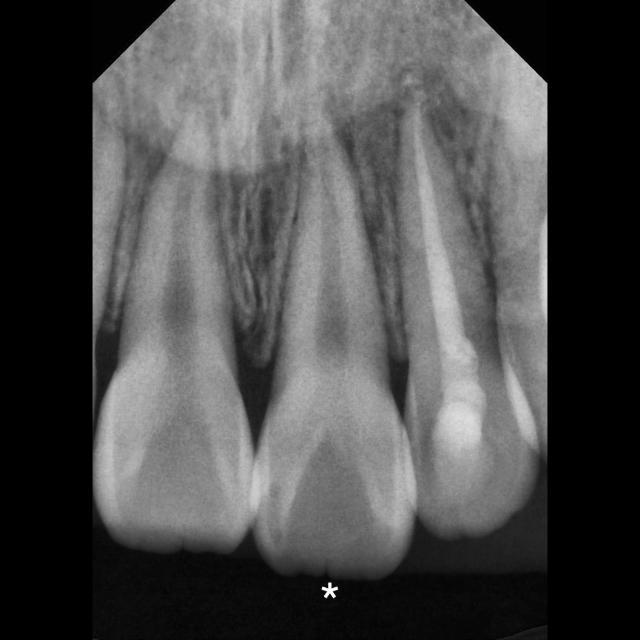test-segment: (255, 136, 415, 579)
